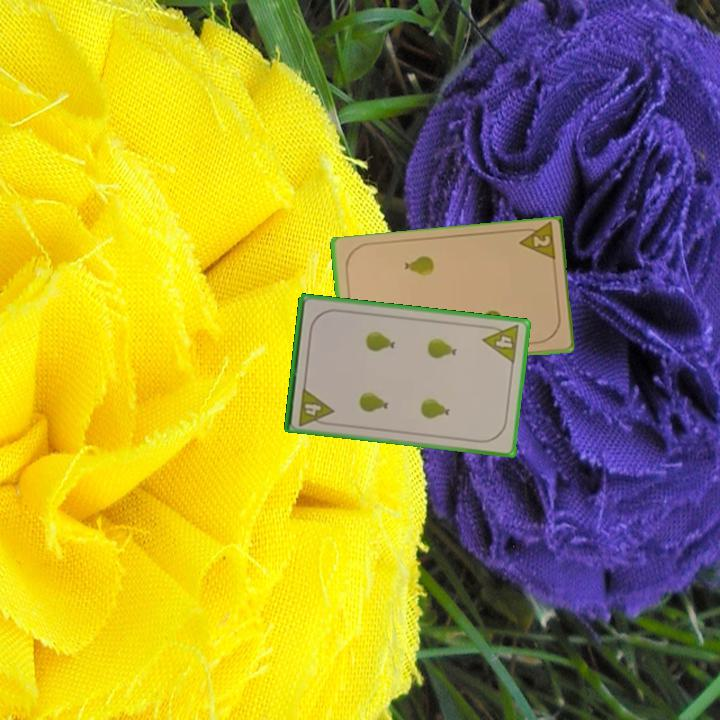2p: (513, 221, 558, 266)
4p: (479, 321, 522, 366), (295, 384, 336, 429)
